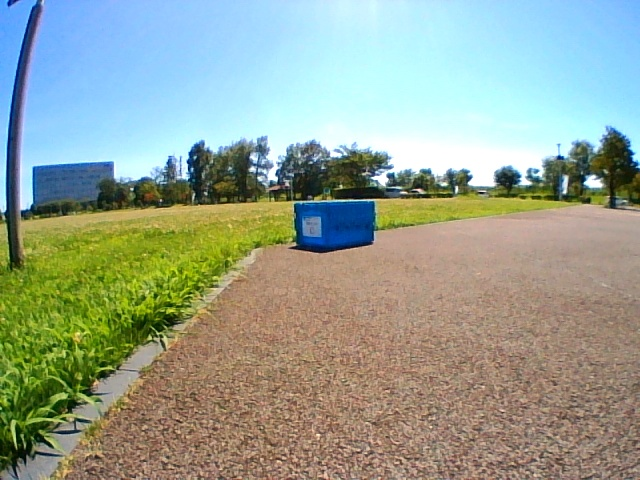blue_box: (294, 202, 375, 245)
tag_c: (303, 216, 321, 236)
